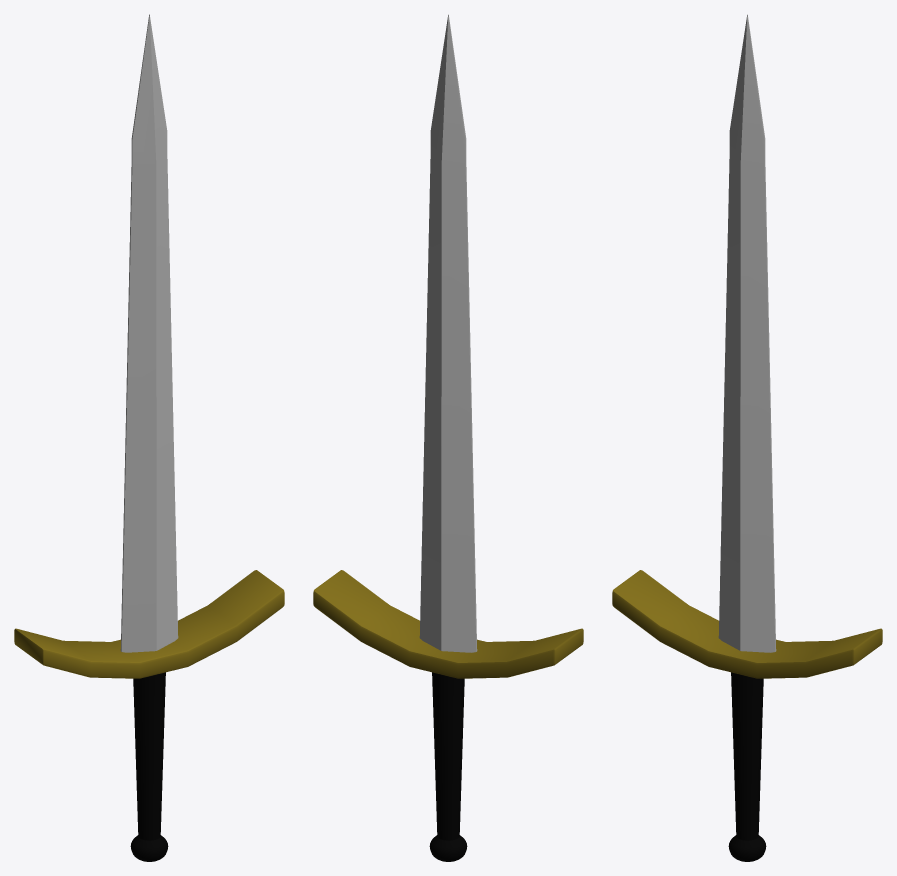
The model's file is TwoHand_Sword_Iron.fbx.
The picture shows the model from 3 angles, left to right: view 1: azimuth 30°, elevation 25°; view 2: azimuth 150°, elevation 25°; view 3: azimuth 330°, elevation 25°; orthographic projection.
Parts seen in each view (by area): view 1: TwoHand_Sword_Iron; view 2: TwoHand_Sword_Iron; view 3: TwoHand_Sword_Iron.
Boxes of the visible parts, <box> form: TwoHand_Sword_Iron: <box>14,14,284,861</box>; TwoHand_Sword_Iron: <box>313,14,583,861</box>; TwoHand_Sword_Iron: <box>612,14,882,861</box>.
Bounding box in the file's own units: 426 × 1416 × 89.66.
